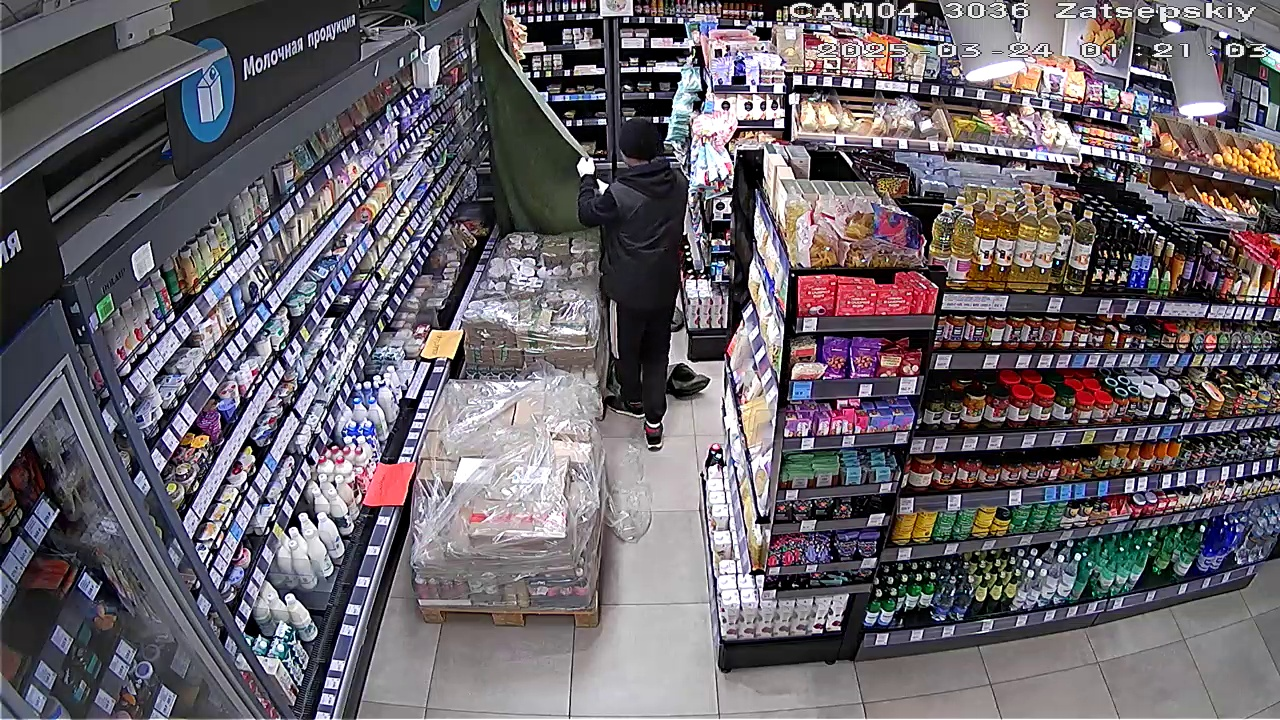Human: (577, 112, 680, 451)
pallet: (413, 374, 600, 622), (463, 226, 601, 367)
